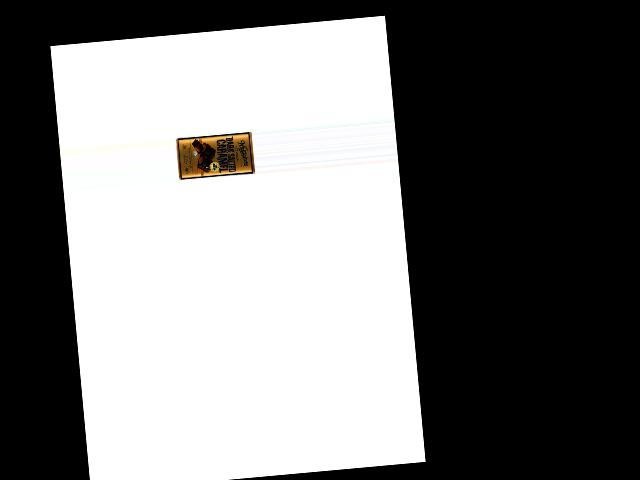chocolate: (173, 130, 254, 183)
